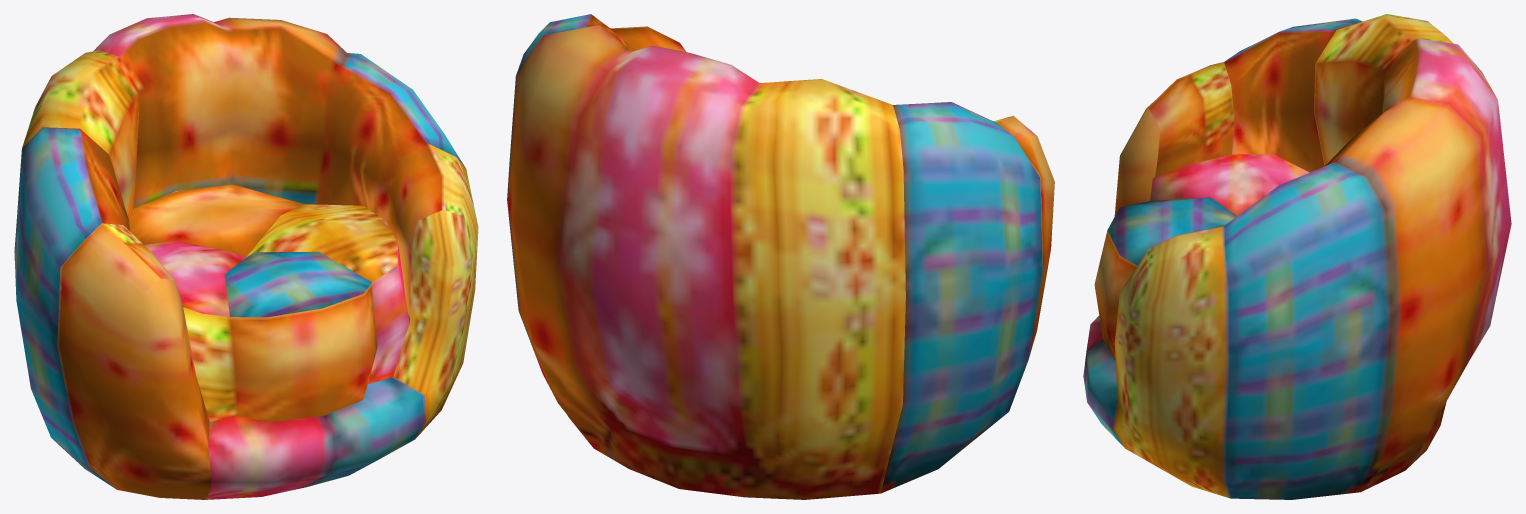
The model's file is rmk_ptw_chairS.dae.
3 views of the same model, side by side, from view 1: azimuth 30°, elevation 25°; view 2: azimuth 150°, elevation 25°; view 3: azimuth 270°, elevation 25° (orthographic). The views are drawn at different scales.
Visible parts, largest first — view 1: rmk_ptw_chairS; view 2: rmk_ptw_chairS; view 3: rmk_ptw_chairS.
Part boxes in pixels (left/top/right/bottom): rmk_ptw_chairS: left=14, top=14, right=478, bottom=499; rmk_ptw_chairS: left=507, top=14, right=1054, bottom=499; rmk_ptw_chairS: left=1083, top=14, right=1511, bottom=499.
Bounding box in the file's own units: 31.87 × 26.57 × 27.62.
Materials: 1 (1 with a texture image).
